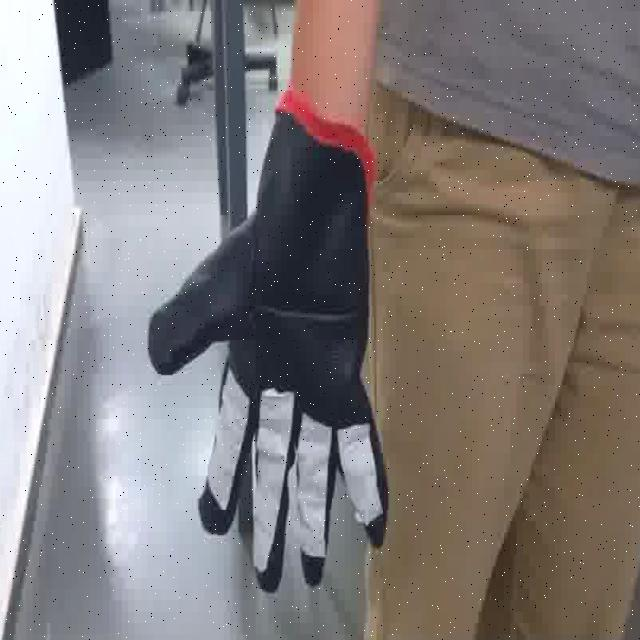Gloves: (139, 87, 408, 586)
